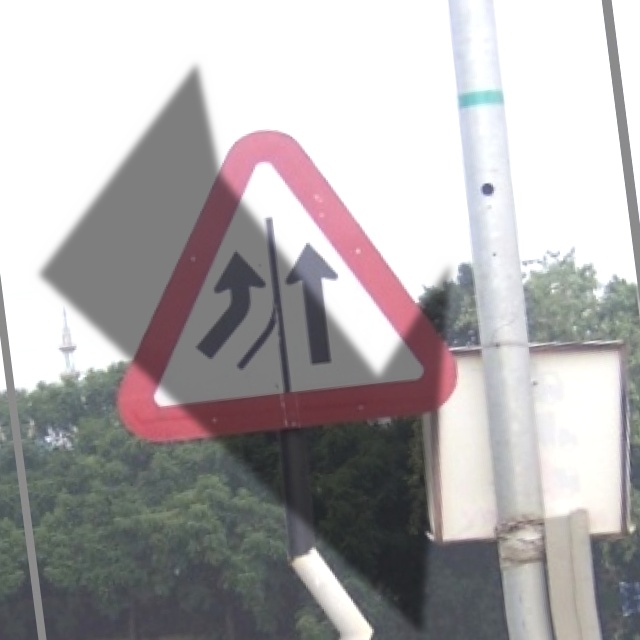Merge_Traffic_Ahead: (81, 102, 473, 469)
